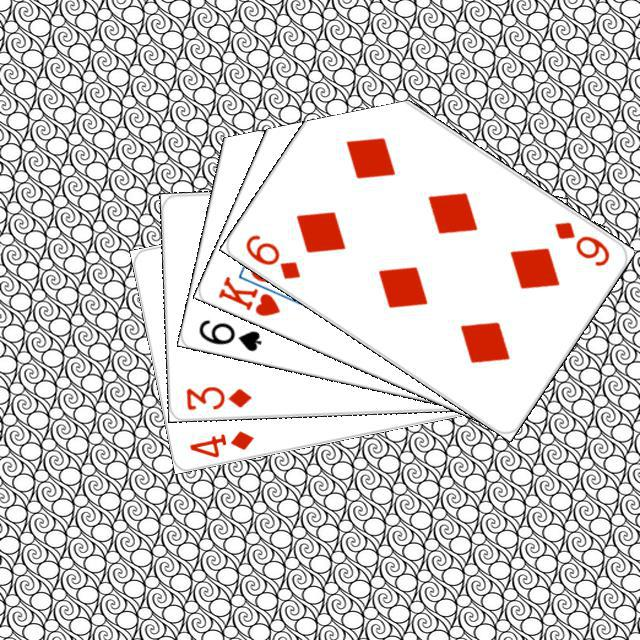3d: (181, 382, 253, 412)
4d: (184, 426, 256, 459)
6d: (549, 216, 612, 269), (240, 229, 302, 281)
6s: (193, 314, 263, 353)
Kh: (213, 267, 294, 318)
